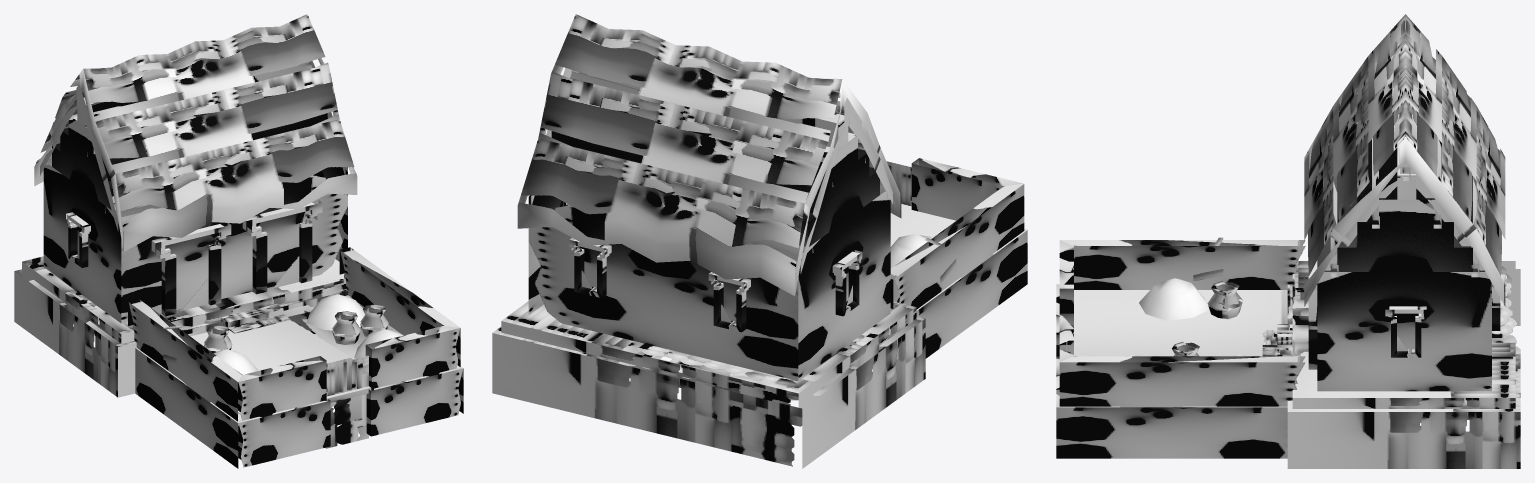
Rendered from corral.dae.
The picture shows the model from 3 angles, left to right: view 1: azimuth 30°, elevation 25°; view 2: azimuth 150°, elevation 25°; view 3: azimuth 270°, elevation 25°; orthographic projection. The views are drawn at different scales.
Parts seen in each view (by area): view 1: corral; view 2: corral; view 3: corral.
Part boxes in pixels (x1,y1,x2,y2): corral: (14, 14, 463, 468); corral: (492, 14, 1027, 468); corral: (1056, 14, 1520, 468).
Bounding box in the file's own units: 12.75 × 17.48 × 13.62.
